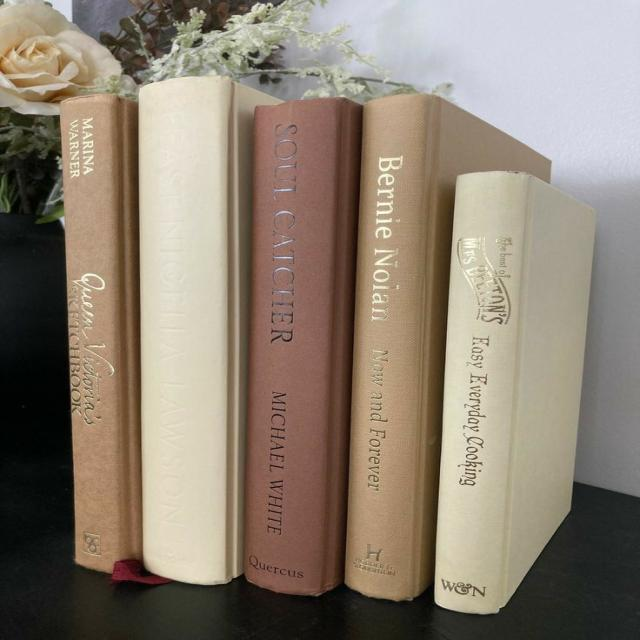book: (245, 99, 362, 596), (139, 77, 243, 585), (344, 95, 440, 600), (432, 173, 535, 602), (61, 95, 141, 572)
flowers: (0, 0, 412, 224)
